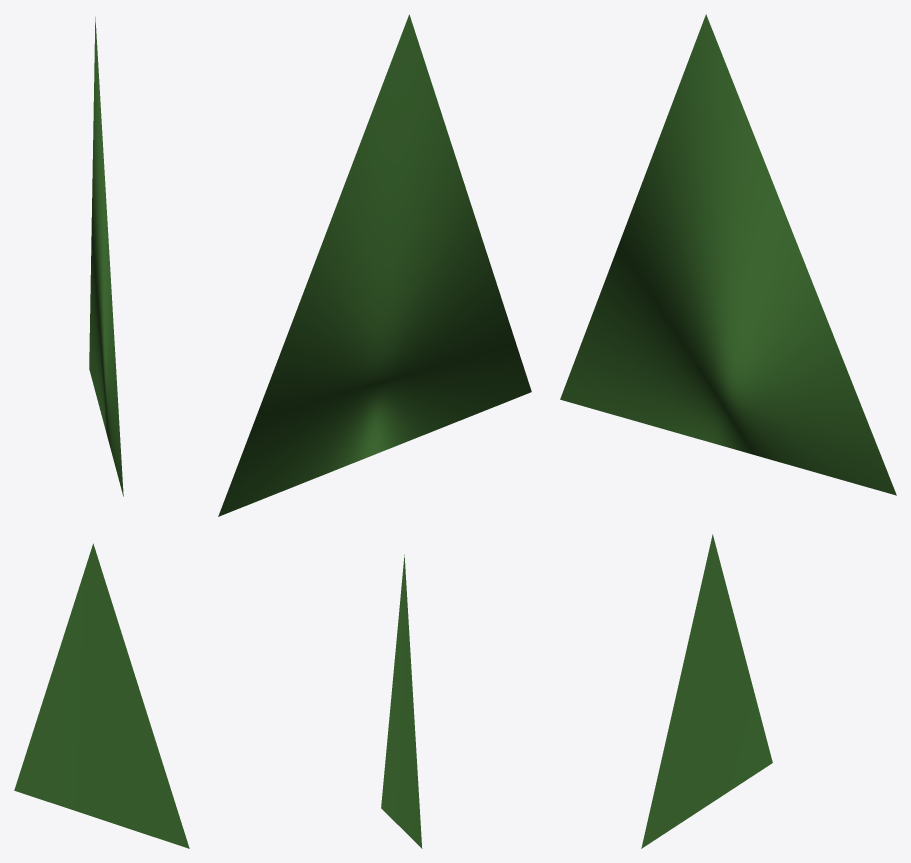
The model's file is Trongle.fbx.
3 views of the same model, side by side, from view 1: azimuth 30°, elevation 25°; view 2: azimuth 150°, elevation 25°; view 3: azimuth 270°, elevation 25° (orthographic). The views are drawn at different scales.
Visible parts, largest first — view 1: Cylinder; view 2: Cylinder; view 3: Cylinder.
Boxes of the visible parts, x1,y1,x2,y2 form: Cylinder: (14,17,189,848); Cylinder: (218,14,531,848); Cylinder: (560,14,896,848).
Size of the model in its own units: 1.92 by 10.94 by 4.15.
